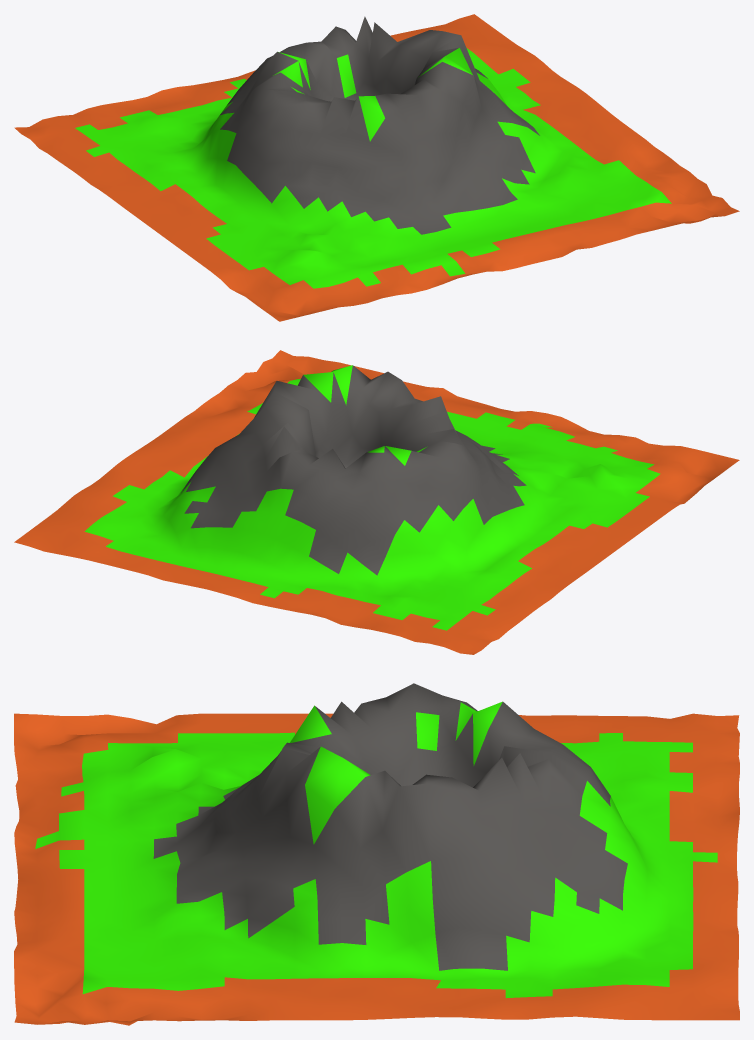
The model's file is island.obj.
3 views of the same model, one above another, from view 1: azimuth 30°, elevation 25°; view 2: azimuth 150°, elevation 25°; view 3: azimuth 270°, elevation 25° (orthographic). The views are drawn at different scales.
Parts seen in each view (by area): view 1: Plane; view 2: Plane; view 3: Plane.
Boxes of the visible parts, x1,y1,x2,y2 form: Plane: (14,14,739,321); Plane: (14,350,739,654); Plane: (14,683,739,1025).
Bounding box in the file's own units: 20.85 × 5.31 × 20.84.
